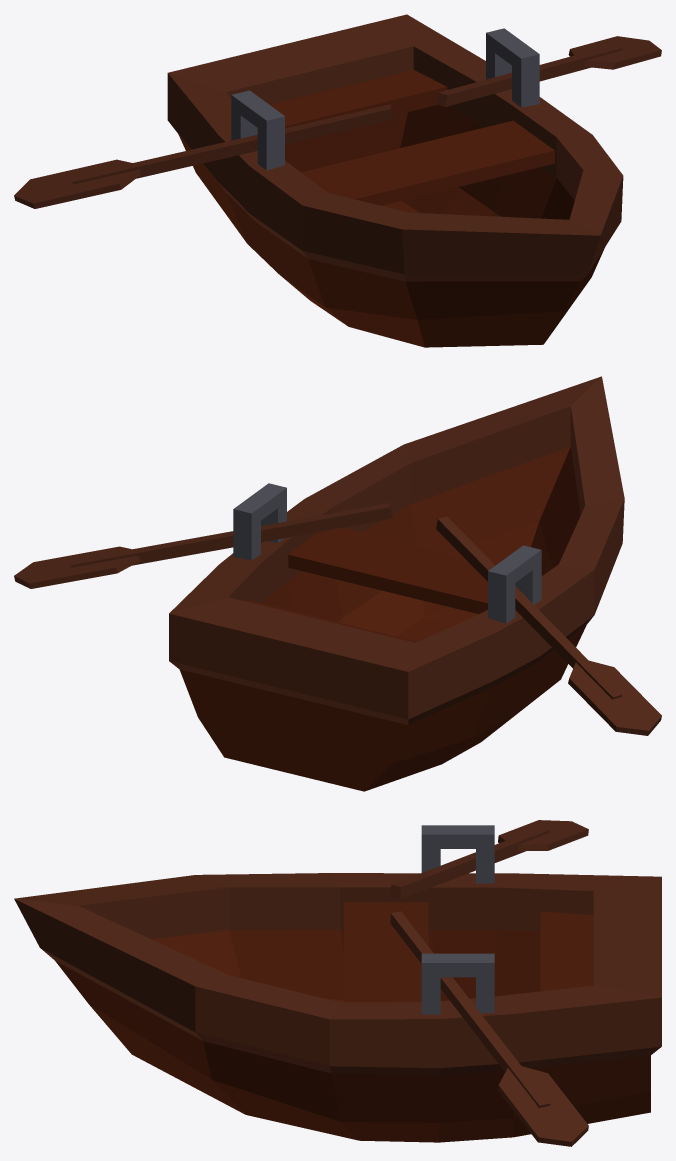
Rendered from Boat.fbx.
3 renders of one model, top to bottom at view 1: azimuth 30°, elevation 25°; view 2: azimuth 150°, elevation 25°; view 3: azimuth 270°, elevation 25°, orthographic. The views are drawn at different scales.
Visible parts, largest first — view 1: Boat; view 2: Boat; view 3: Boat.
Part boxes in pixels (x1,y1,x2,y2): Boat: (14, 14, 661, 347); Boat: (14, 376, 661, 791); Boat: (14, 820, 661, 1146).
Bounding box in the file's own units: 116 × 35.6 × 99.23.
